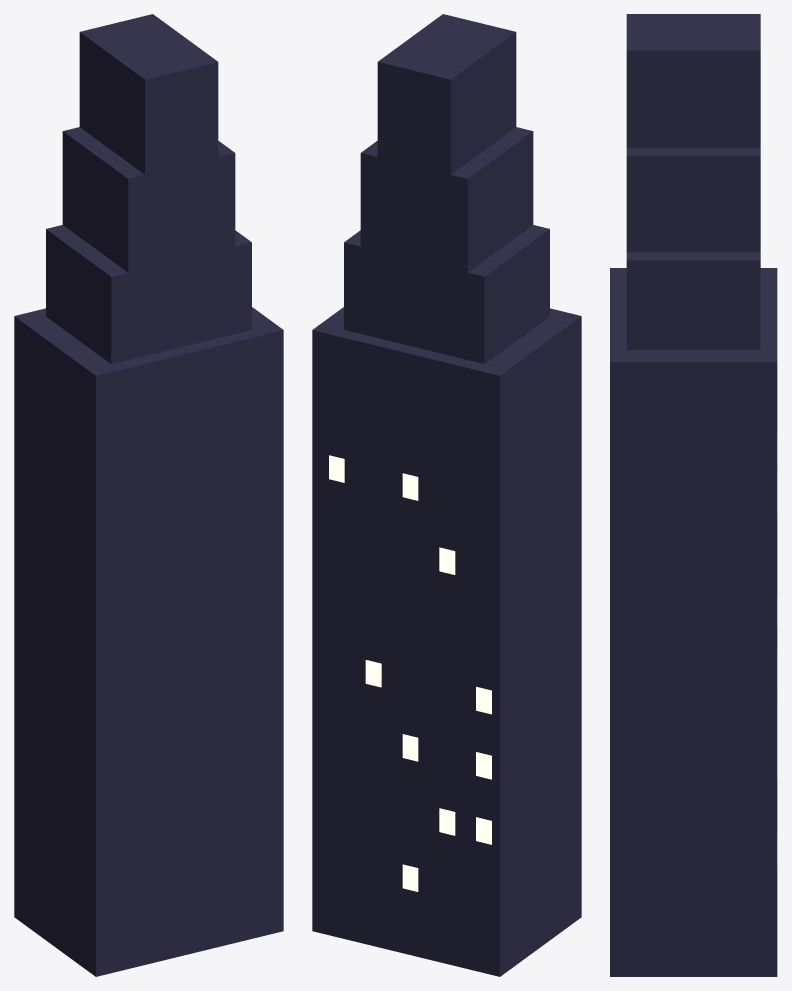
Rendered from Tower3.fbx.
3 renders of one model, left to right at view 1: azimuth 30°, elevation 25°; view 2: azimuth 150°, elevation 25°; view 3: azimuth 270°, elevation 25°, orthographic. The views are drawn at different scales.
Visible parts, largest first — view 1: Tower; view 2: Tower, Windows; view 3: Tower.
Boxes of the visible parts, left/top/right/bottom form: Tower: left=14, top=14, right=283, bottom=976; Tower: left=312, top=14, right=581, bottom=976; Windows: left=329, top=455, right=491, bottom=891; Tower: left=610, top=14, right=777, bottom=976.
Bounding box in the file's own units: 6.63 × 29.6 × 5.02.
